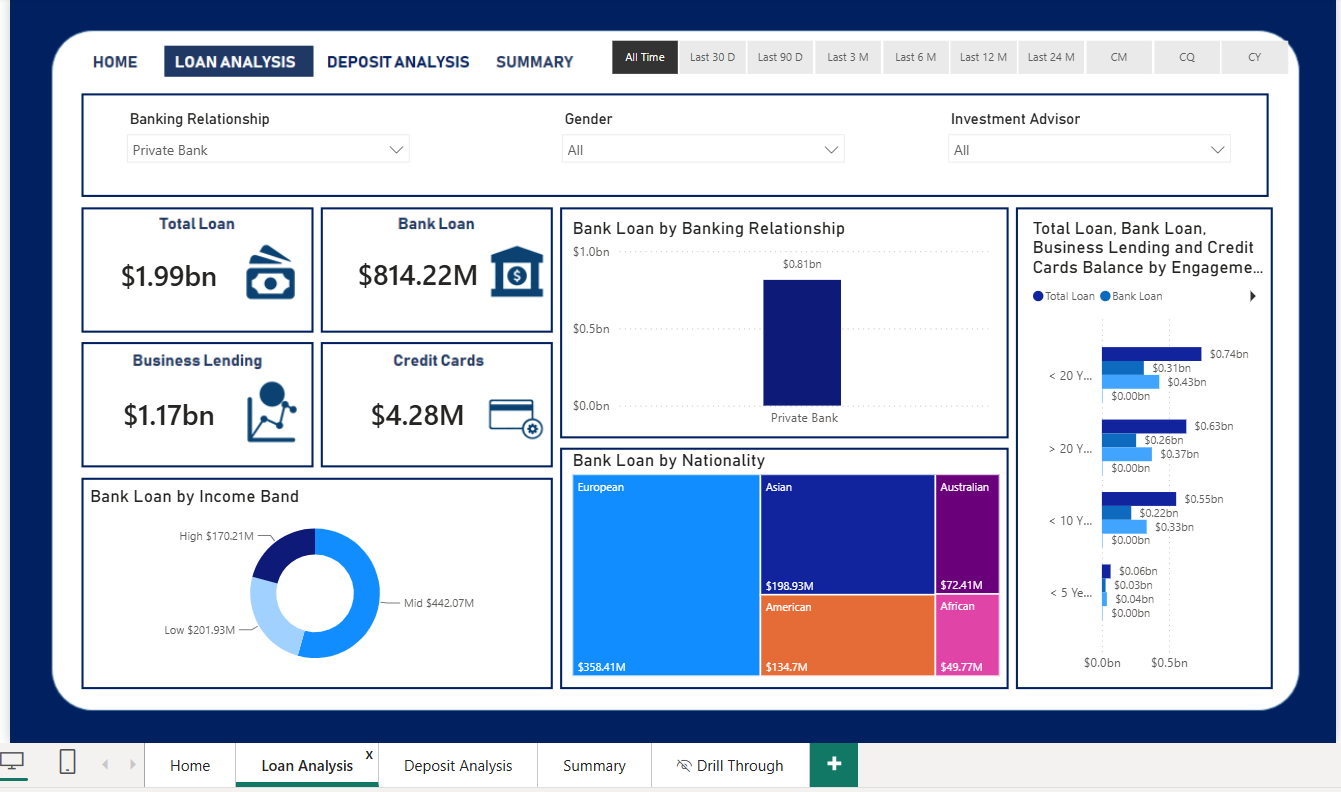

The dashboard page shown, as its layout file describes it:
{"tool":"powerbi","page":{"name":"Loan Analysis","canvas":[1280,720],"ordinal":1},"visuals":[{"type":"card","fields":{"Values":["DAX Measures.Total Loan"]},"box":[72.7,224,161.8,90.3],"z":0},{"type":"card","fields":{"Values":["DAX Measures.Bank Loan"]},"box":[307.2,224,172.4,89.1],"z":1000},{"type":"card","fields":{"Values":["DAX Measures.Credit Cards"]},"box":[307.2,360,171.2,89.1],"z":2000},{"type":"card","fields":{"Values":["DAX Measures.Business Lending"]},"box":[72.7,360,161.8,89.1],"z":3000},{"type":"slicer","fields":{"Values":["Banking Relationship.Banking Relationship"]},"box":[102.3,103.4,292.9,75.7],"z":4000},{"type":"slicer","fields":{"Values":["Gender.Gender"]},"box":[522.7,103.4,292.9,75.7],"z":5000},{"type":"slicer","fields":{"Values":["Investment Advisor.Investment Advisor"]},"box":[895,103.4,292.9,75.7],"z":6000},{"type":"donutChart","fields":{"Category":["Clients - Banking.Income Band"],"Y":["DAX Measures.Bank Loan"]},"box":[72.7,471.4,444.4,188.8],"z":7000},{"type":"clusteredBarChart","fields":{"Category":["Clients - Banking.Engagement Timeframe"],"Y":["DAX Measures.Total Loan","DAX Measures.Bank Loan","DAX Measures.Business Lending","DAX Measures.Credit Cards"]},"box":[981.5,212.2,236.9,447.9],"z":8000},{"type":"treemap","fields":{"Group":["Clients - Banking.Nationality"],"Values":["DAX Measures.Bank Loan"]},"box":[538.2,436.2,422.1,224],"z":9000},{"type":"lineClusteredColumnComboChart","fields":{"Y":["DAX Measures.Bank Loan"],"Category":["Banking Relationship.Banking Relationship"]},"box":[538.2,212.2,411.6,212.2],"z":10000},{"type":"slicer","fields":{"Values":["Period.Name"]},"box":[555.2,34.6,702.1,46.6],"z":11000},{"type":"actionButton","box":[72.8,44.2,58.5,31],"z":12000},{"type":"actionButton","box":[306.9,44.7,119.4,31],"z":13000},{"type":"actionButton","box":[471.6,44.2,83.6,31],"z":14000}]}

Visuals, with their boxes on the page's 1280x720 design canvas (x1, y1, x2, y2). These are canvas units, not pixel positions in the 1341x792 screenshot, which may show the page scaled, cropped or inside an application window:
card - DAX Measures.Total Loan: box=[73, 224, 234, 314]
card - DAX Measures.Bank Loan: box=[307, 224, 480, 313]
card - DAX Measures.Credit Cards: box=[307, 360, 478, 449]
card - DAX Measures.Business Lending: box=[73, 360, 234, 449]
slicer - Banking Relationship.Banking Relationship: box=[102, 103, 395, 179]
slicer - Gender.Gender: box=[523, 103, 816, 179]
slicer - Investment Advisor.Investment Advisor: box=[895, 103, 1188, 179]
donutChart - Clients - Banking.Income Band x DAX Measures.Bank Loan: box=[73, 471, 517, 660]
clusteredBarChart - Clients - Banking.Engagement Timeframe x DAX Measures.Total Loan: box=[982, 212, 1218, 660]
treemap - Clients - Banking.Nationality x DAX Measures.Bank Loan: box=[538, 436, 960, 660]
lineClusteredColumnComboChart - DAX Measures.Bank Loan x Banking Relationship.Banking Relationship: box=[538, 212, 950, 424]
slicer - Period.Name: box=[555, 35, 1257, 81]
actionButton: box=[73, 44, 131, 75]
actionButton: box=[307, 45, 426, 76]
actionButton: box=[472, 44, 555, 75]
